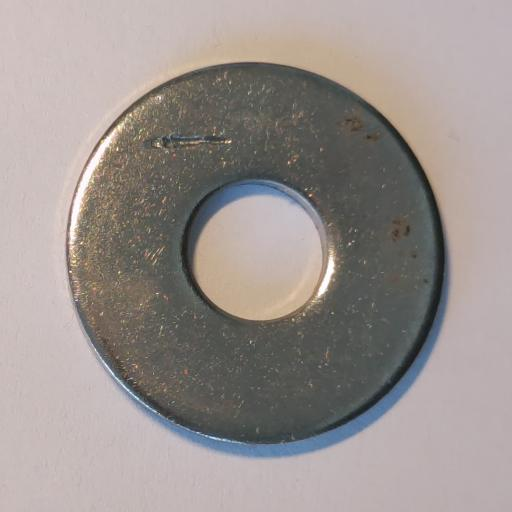scratch: (144, 134, 232, 154)
